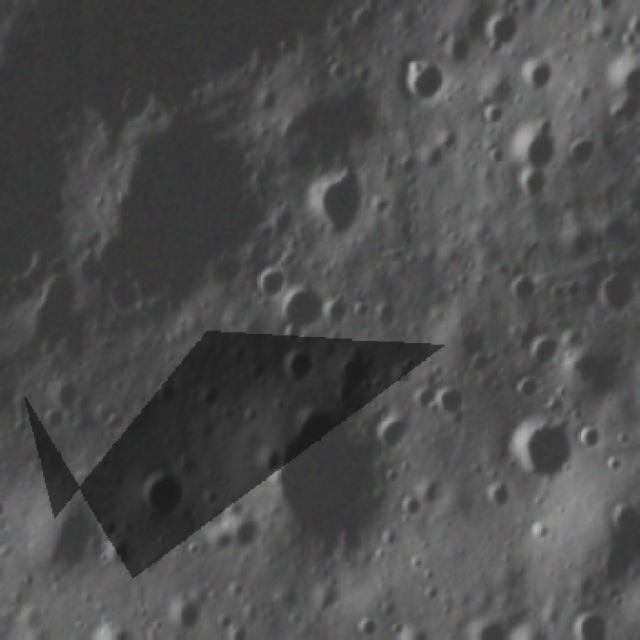crater: (93, 106, 270, 314), (256, 406, 398, 562), (24, 264, 88, 364), (298, 165, 372, 246), (40, 500, 106, 578), (506, 416, 582, 482), (139, 465, 192, 526), (277, 284, 332, 341), (332, 350, 378, 412), (400, 56, 451, 110), (590, 263, 638, 320), (566, 597, 628, 638), (473, 9, 521, 60), (224, 509, 268, 560), (522, 328, 575, 370), (559, 222, 604, 266), (430, 384, 475, 427), (98, 534, 140, 578), (375, 408, 416, 452), (571, 422, 615, 462), (465, 614, 532, 640), (254, 263, 292, 308), (515, 132, 556, 172), (562, 132, 604, 171), (478, 477, 516, 520), (519, 59, 556, 103), (278, 348, 320, 386), (32, 410, 78, 444), (46, 380, 86, 418), (439, 32, 475, 74), (170, 595, 207, 633), (506, 268, 542, 307), (511, 370, 547, 407), (518, 172, 552, 208), (352, 609, 391, 640), (475, 98, 511, 130), (193, 383, 224, 420), (147, 381, 182, 413), (374, 297, 404, 334), (470, 348, 501, 383), (401, 494, 430, 524), (352, 294, 374, 332)
